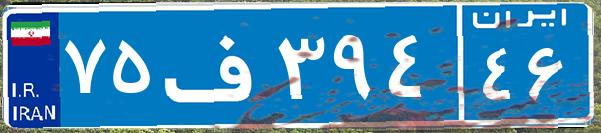3: (273, 28, 330, 110)
4: (385, 28, 445, 110), (475, 38, 525, 113)
5: (110, 28, 158, 105)
6: (525, 38, 570, 115)
7: (57, 26, 110, 107)
9: (330, 28, 385, 110)
ف: (158, 15, 273, 115)
